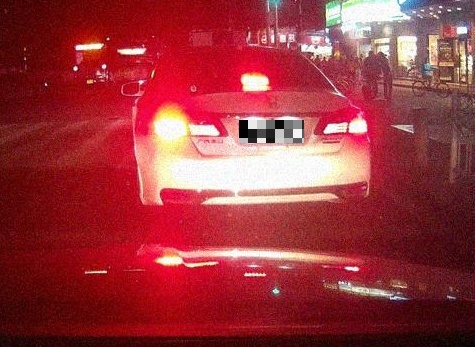L_light: (152, 110, 228, 139)
R_light: (313, 106, 369, 136)
T_light: (240, 73, 269, 86)
night-left: (134, 45, 370, 217)
plate_1: (239, 120, 304, 143)
